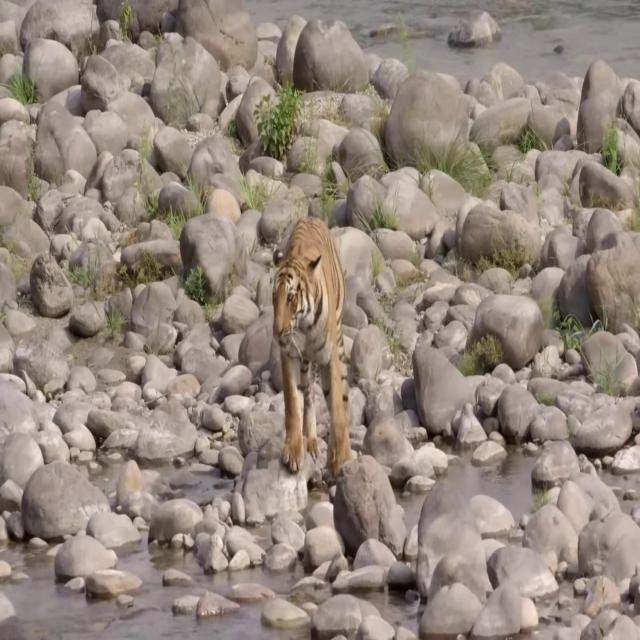tiger: (272, 216, 352, 477)
